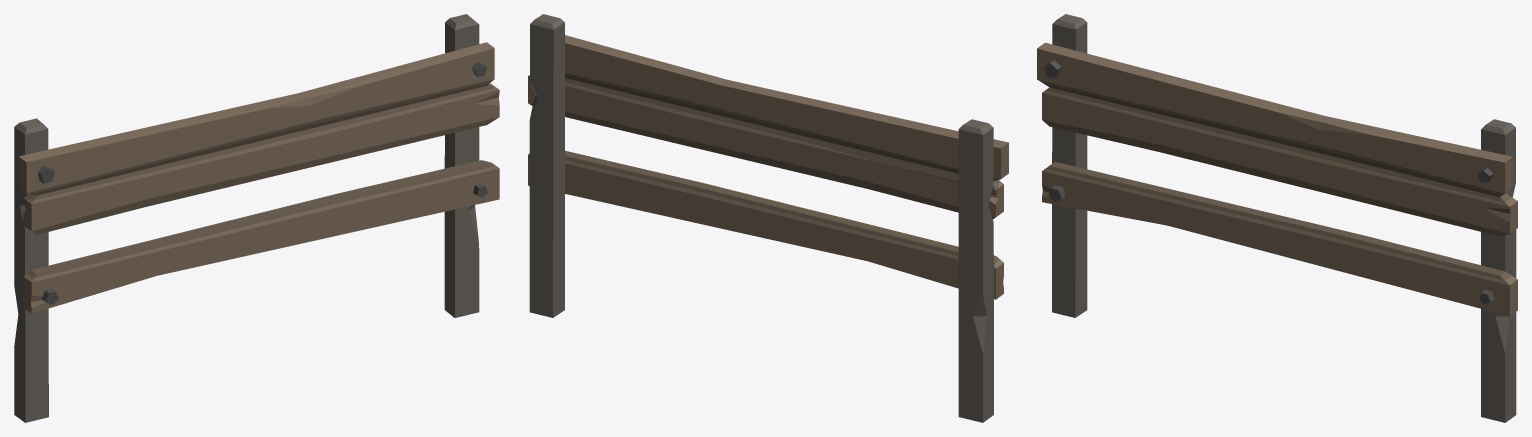
The model's file is SM_Bld_Village_Fence_02.fbx.
3 renders of one model, left to right at view 1: azimuth 30°, elevation 25°; view 2: azimuth 150°, elevation 25°; view 3: azimuth 330°, elevation 25°, orthographic.
Visible parts, largest first — view 1: SM_Bld_Village_Fence_02; view 2: SM_Bld_Village_Fence_02; view 3: SM_Bld_Village_Fence_02.
Part boxes in pixels (<box>): SM_Bld_Village_Fence_02: <box>14,14,499,422</box>; SM_Bld_Village_Fence_02: <box>528,14,1008,422</box>; SM_Bld_Village_Fence_02: <box>1037,14,1517,422</box>.
Size of the model in its own units: 291 by 172 by 24.83.
